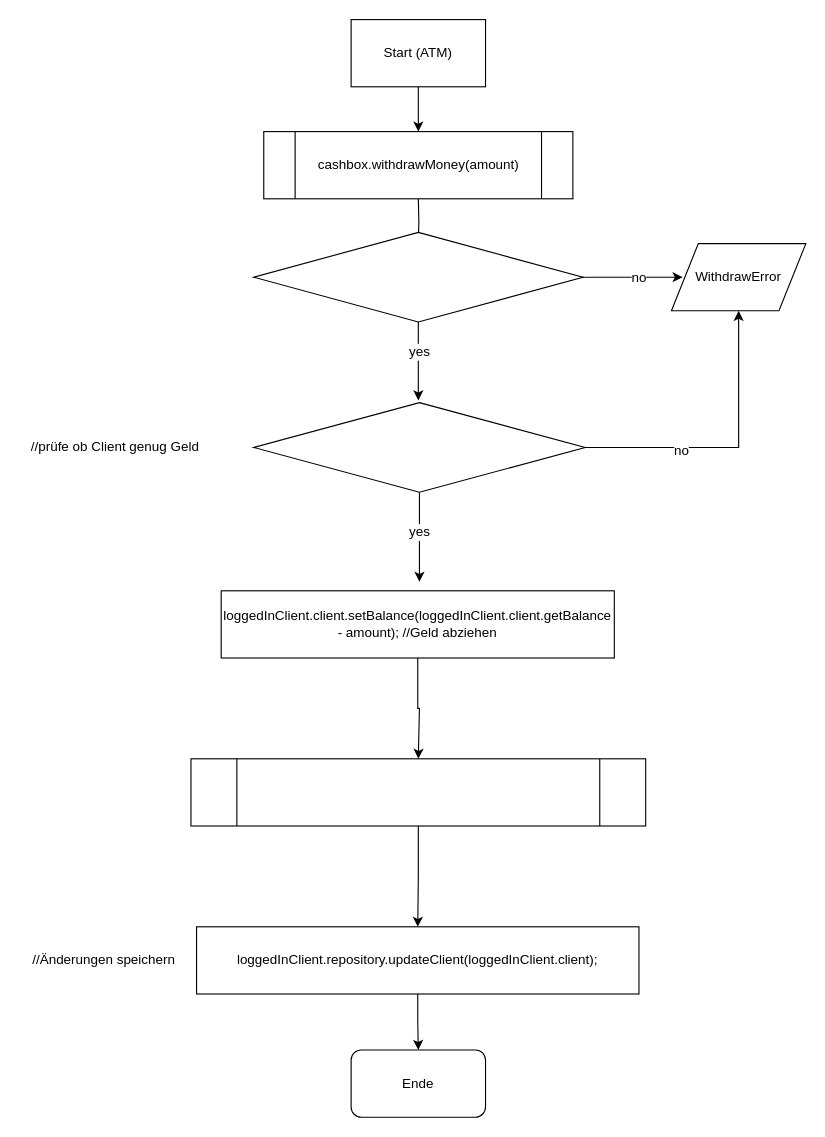
Some shapes in this 825 by 1137 pixel diagram are drawn without their labels. The centre of each missing label's shape, as x and y in pixels:
"cashbox.updateCash(amount)" belongs at pixel 418 792.
"CashBox: isWithdrawPossible(amount)" belongs at pixel 418 276.
"loggedInClient.getBalance()>=amount?" belongs at pixel 419 447.
